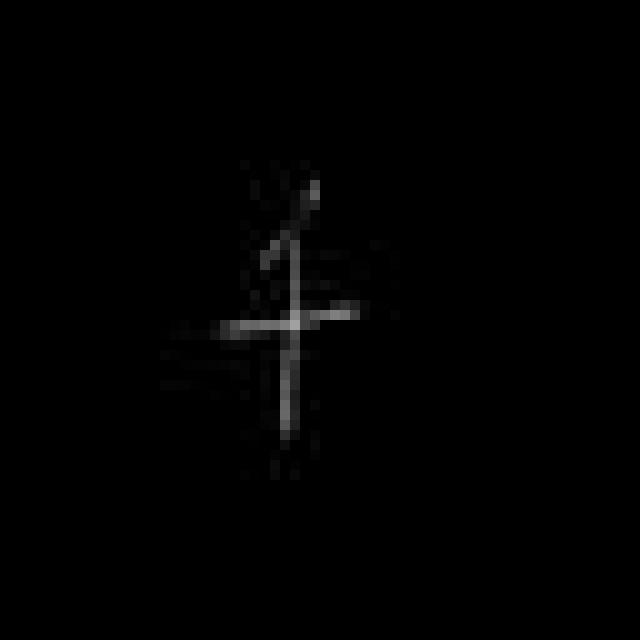1000 -a thousand-: (204, 173, 375, 449)
